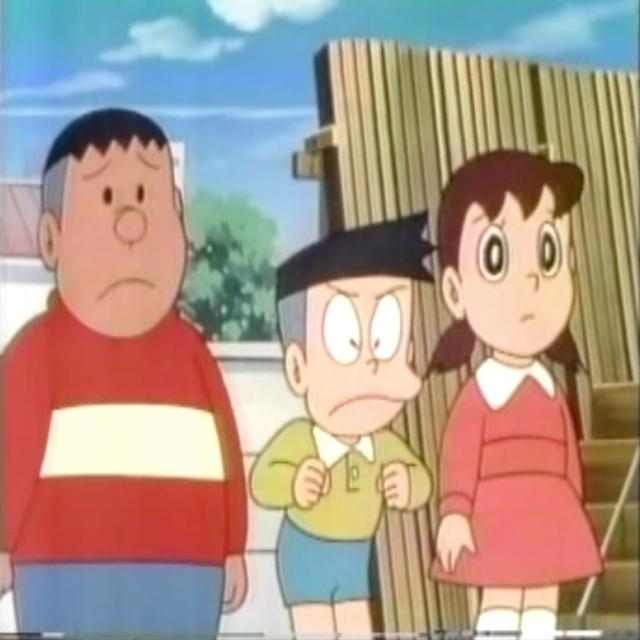jaian: (31, 104, 200, 350)
shizuka: (419, 148, 596, 392)
suneo: (265, 203, 440, 450)
